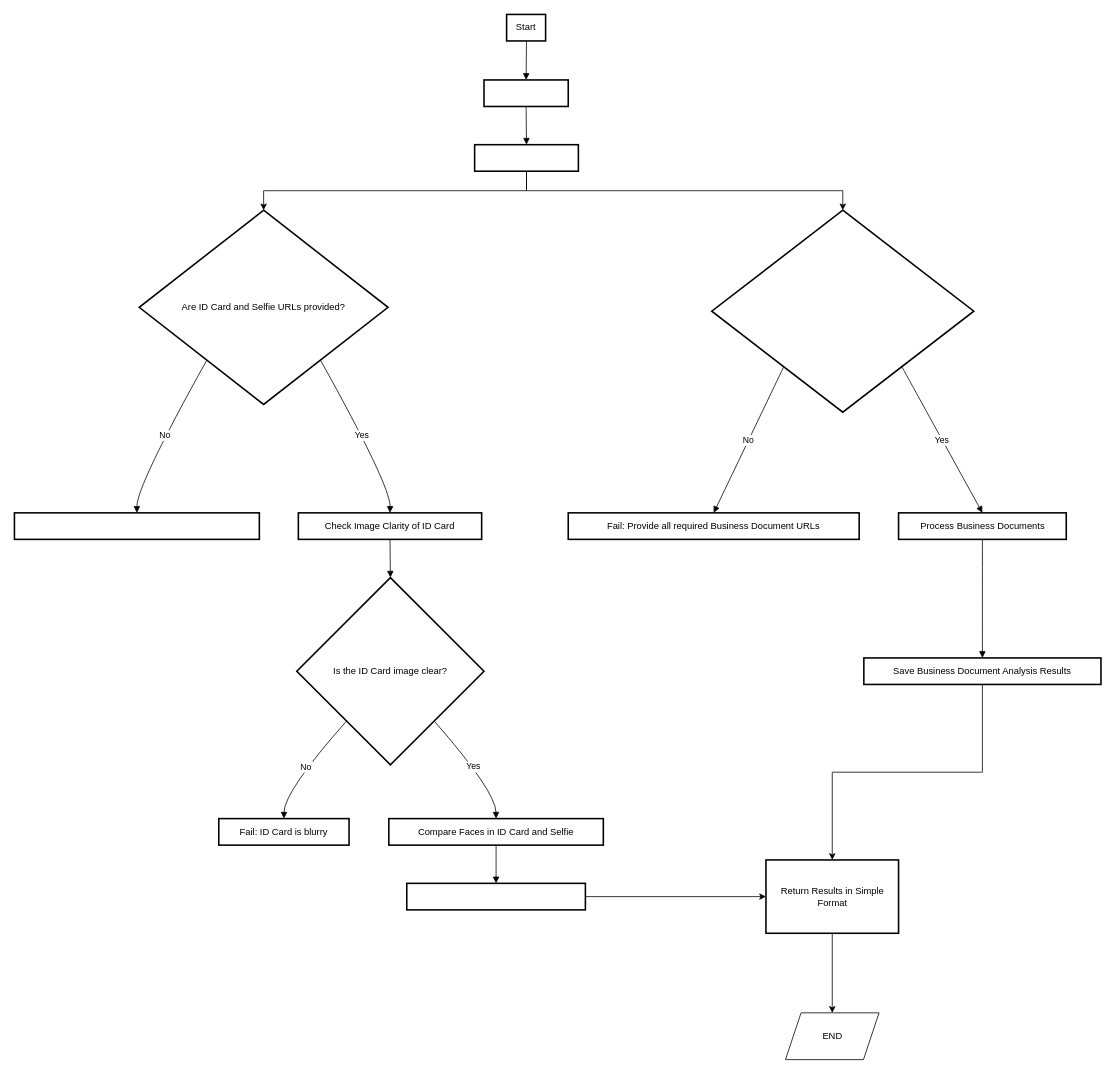
The diagram is 1115 pixels wide and 1073 high, and some of its shapes have lost their labels. Here are the shapes that lost their labels. From the top down, the box of each, then its label:
(483, 79, 569, 107): Receive Data
(473, 144, 579, 172): Initialize Results
(711, 209, 974, 413): Are all Business Document URLs provided?
(13, 512, 260, 540): Fail: Provide both ID Card and Selfie URLs
(406, 882, 586, 910): Save Face Comparison Results
